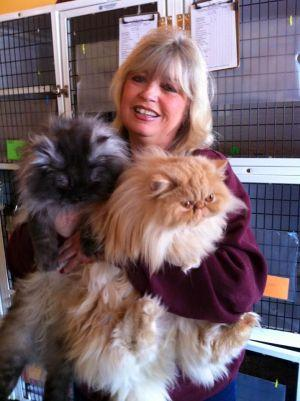persian: (143, 154, 239, 238)
